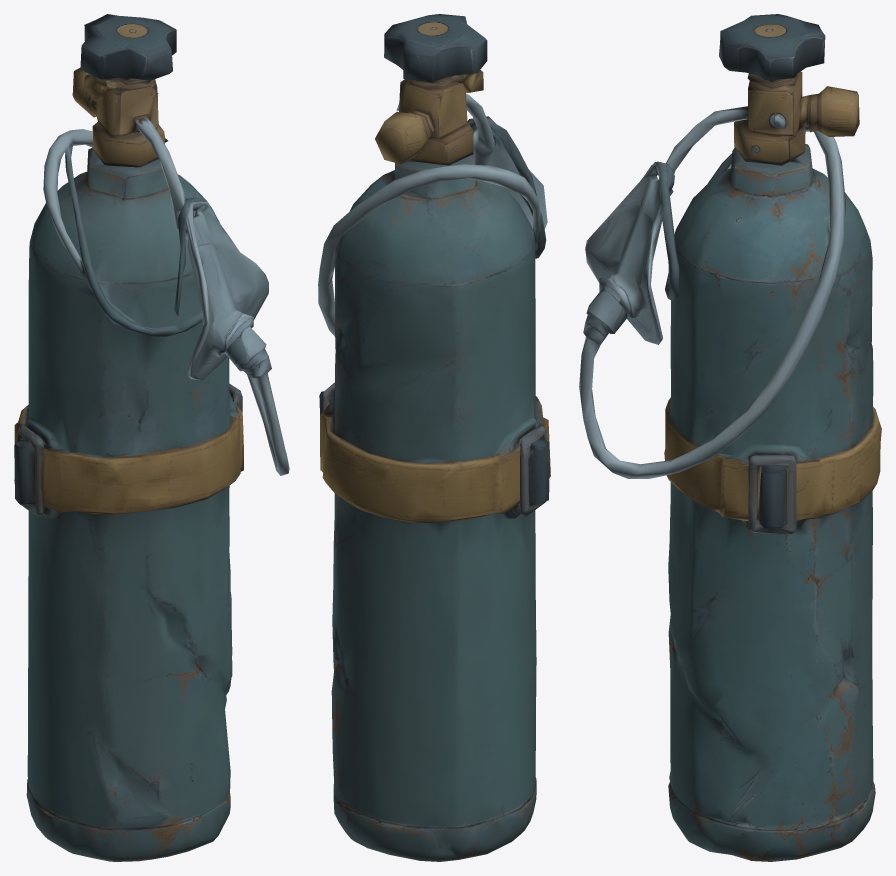
3 renders of one model, left to right at view 1: azimuth 30°, elevation 25°; view 2: azimuth 150°, elevation 25°; view 3: azimuth 270°, elevation 25°, orthographic.
Visible parts, largest first — view 1: tripo_node_5463323f-8759-49c4-956b-b9f9f05f9126; view 2: tripo_node_5463323f-8759-49c4-956b-b9f9f05f9126; view 3: tripo_node_5463323f-8759-49c4-956b-b9f9f05f9126.
Part boxes in pixels (left/top/right/bottom): tripo_node_5463323f-8759-49c4-956b-b9f9f05f9126: left=14, top=14, right=289, bottom=861; tripo_node_5463323f-8759-49c4-956b-b9f9f05f9126: left=318, top=14, right=550, bottom=861; tripo_node_5463323f-8759-49c4-956b-b9f9f05f9126: left=579, top=14, right=881, bottom=861.
Size of the model in its own units: 0.2512 by 0.85 by 0.2927.
1 material, 1 textured.
